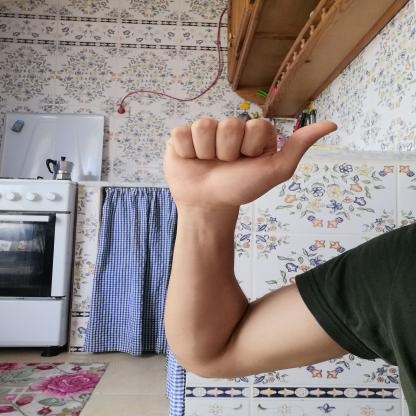DAD: (150, 108, 348, 219)
